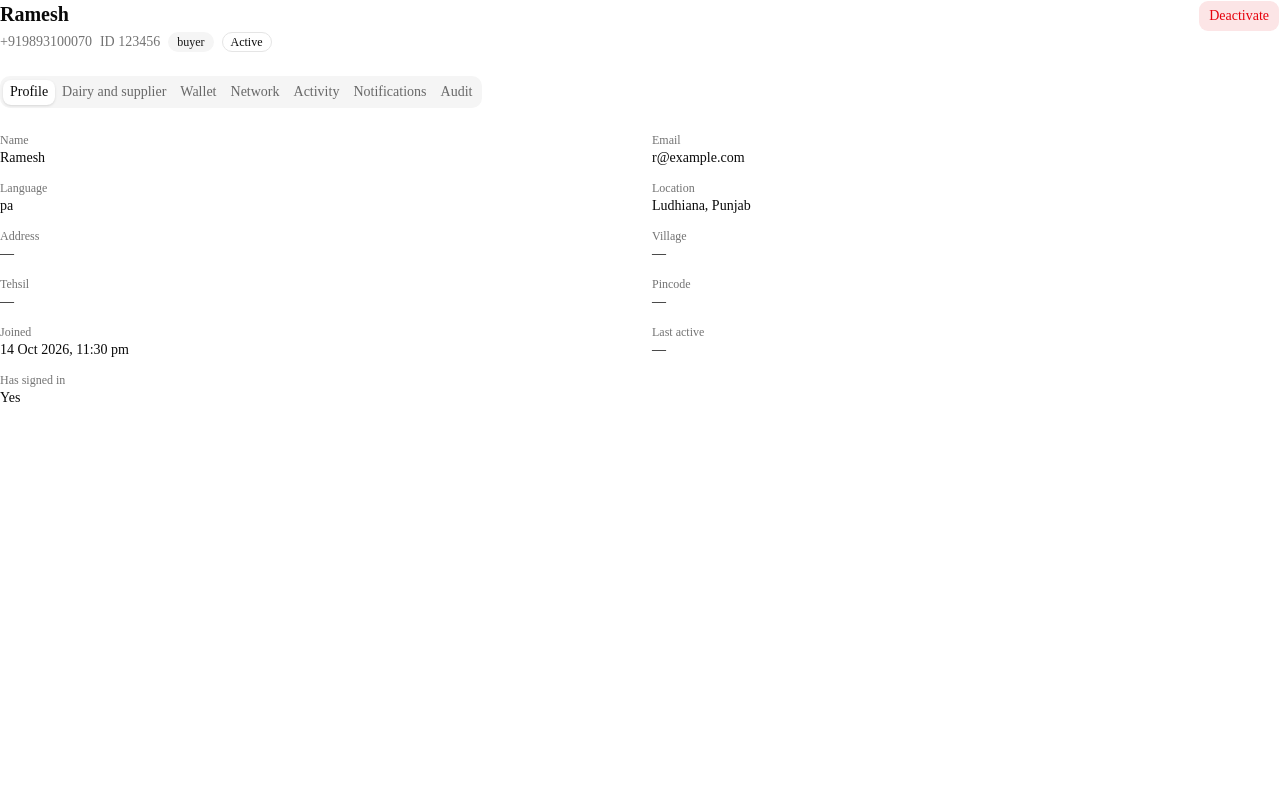
Test case: UserDetailView › opens the wallet adjustment from the Wallet tab
Click the tab "Wallet".
click(198, 92)  # box x1=173 y1=80 x2=224 y2=104
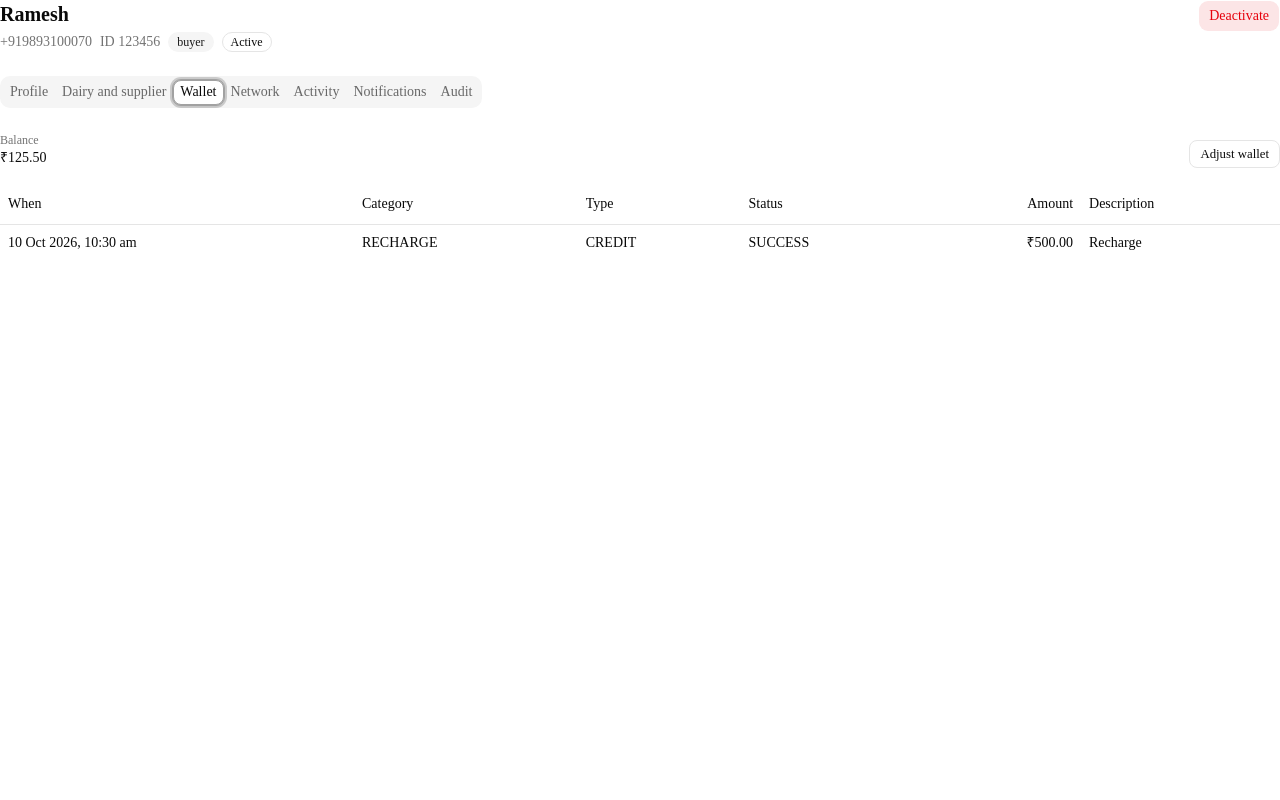
Click the button "Adjust wallet".
click(1235, 154)  # box x1=1189 y1=140 x2=1279 y2=168
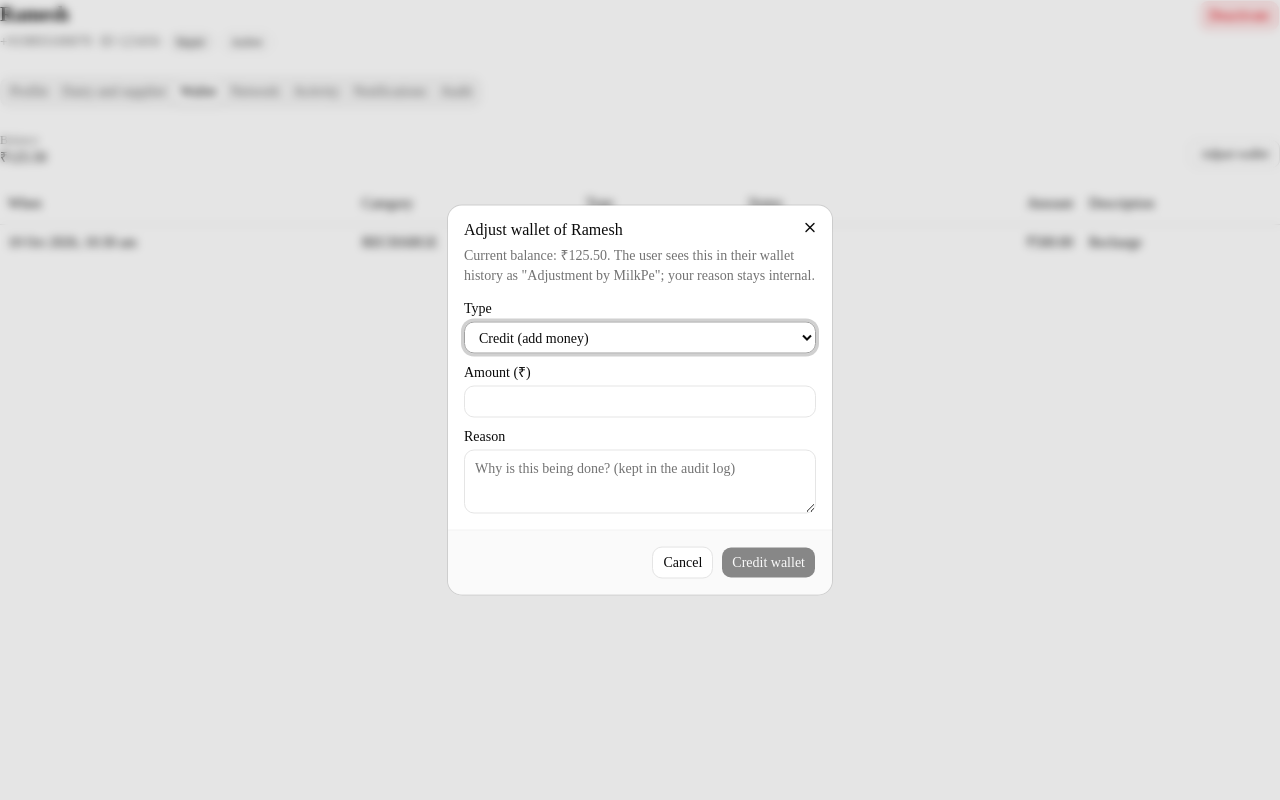
Expected: the heading "Adjust wallet of Ramesh" is shown, x1=464 y1=220 x2=623 y2=238
Expected: the field labelled "Amount (₹)" is shown, x1=464 y1=386 x2=816 y2=418
